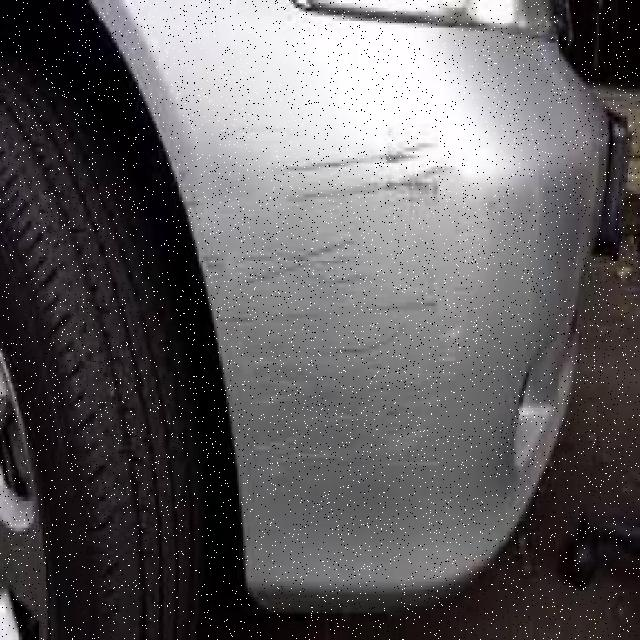damage: (185, 140, 493, 485)
